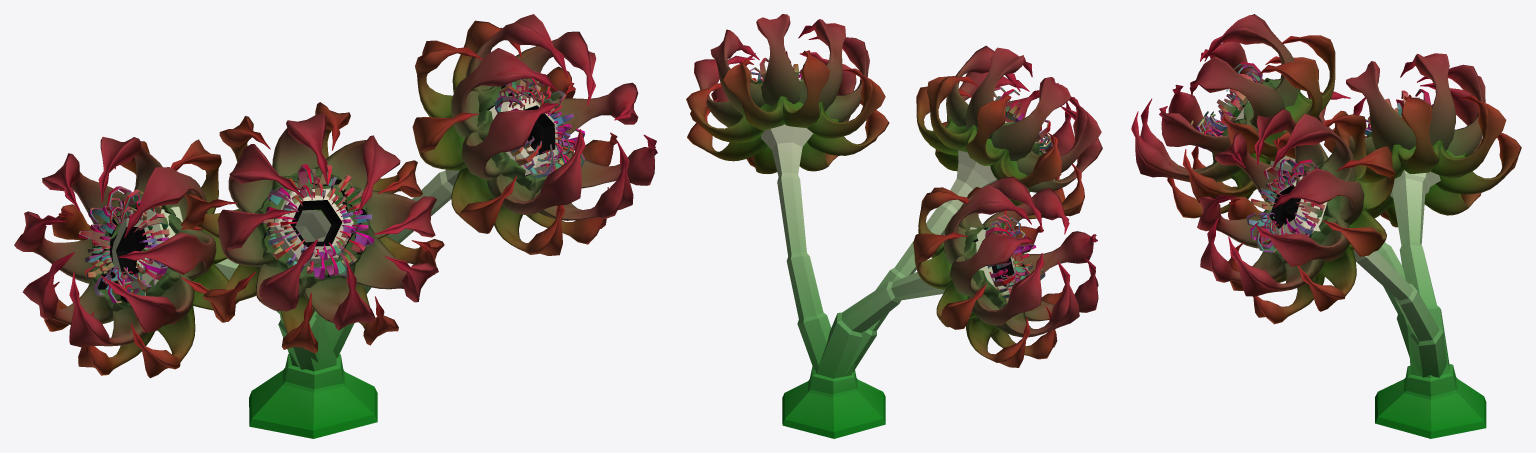
Rendered from Hua_03_attack.fbx.
3 views of the same model, side by side, from view 1: azimuth 30°, elevation 25°; view 2: azimuth 150°, elevation 25°; view 3: azimuth 270°, elevation 25° (orthographic). The views are drawn at different scales.
Visible parts, largest first — view 1: group4; view 2: group4; view 3: group4.
Boxes of the visible parts, box(x1,y1,x2,y2) form: group4: box(14, 14, 657, 438); group4: box(686, 14, 1102, 438); group4: box(1131, 14, 1521, 438).
Size of the model in its own units: 0.1386 by 0.1015 by 0.1006.
